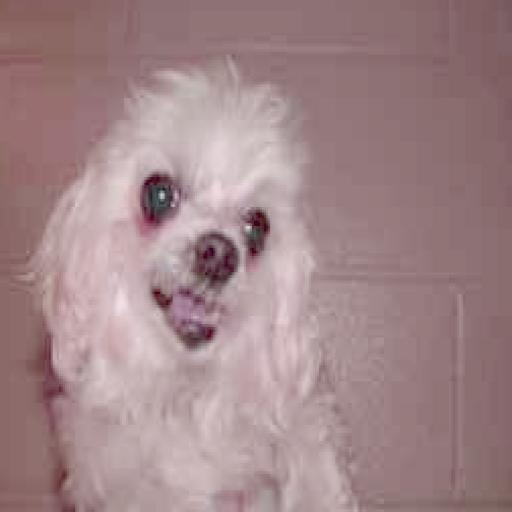dog_face: (40, 86, 324, 377)
